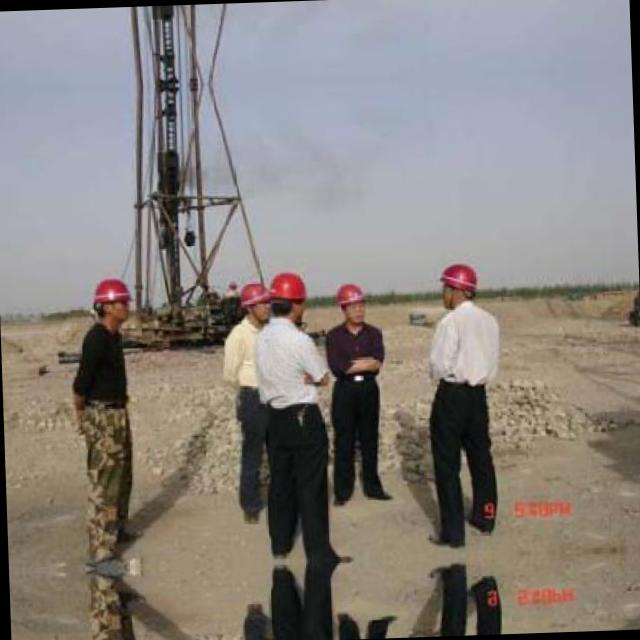helmet: (89, 273, 134, 330), (439, 256, 482, 308), (264, 270, 306, 322), (243, 274, 282, 326), (332, 279, 368, 325)
